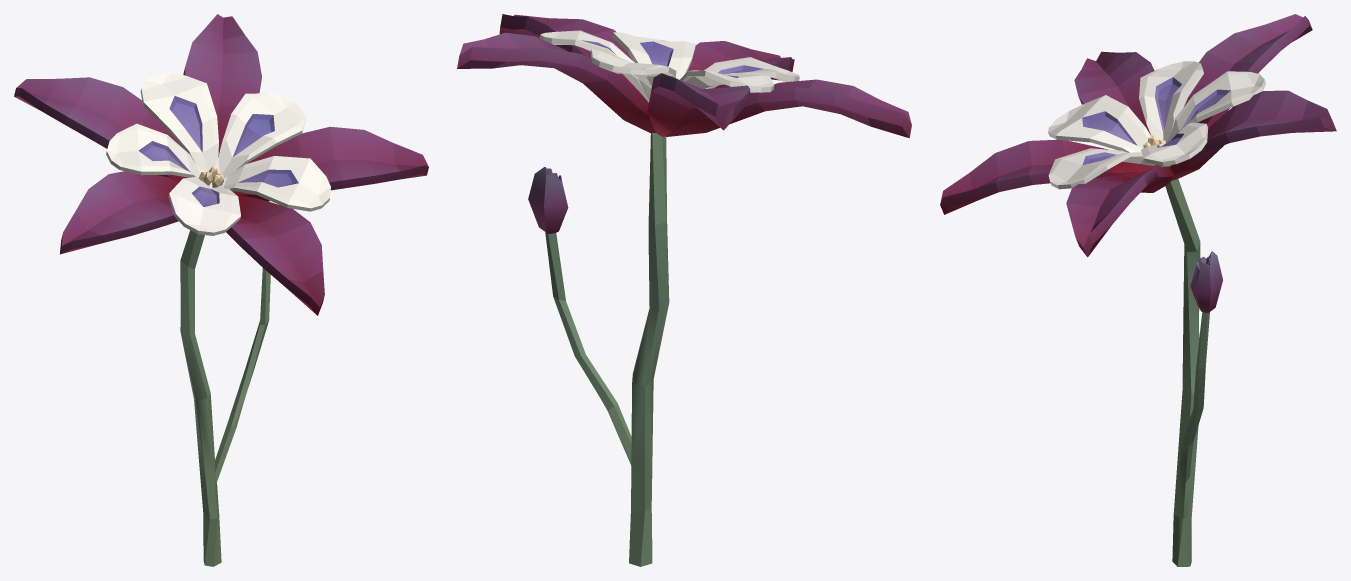
Rendered from Lily_Type01_Purple.fbx.
3 renders of one model, left to right at view 1: azimuth 30°, elevation 25°; view 2: azimuth 150°, elevation 25°; view 3: azimuth 270°, elevation 25°, orthographic. The views are drawn at different scales.
Visible parts, largest first — view 1: Lily_Type01_Purple; view 2: Lily_Type01_Purple; view 3: Lily_Type01_Purple.
Boxes of the visible parts, x1,y1,x2,y2 form: Lily_Type01_Purple: (14,14,428,566); Lily_Type01_Purple: (457,14,911,566); Lily_Type01_Purple: (940,14,1336,566).
Bounding box in the file's own units: 32.91 × 41.67 × 30.43.
